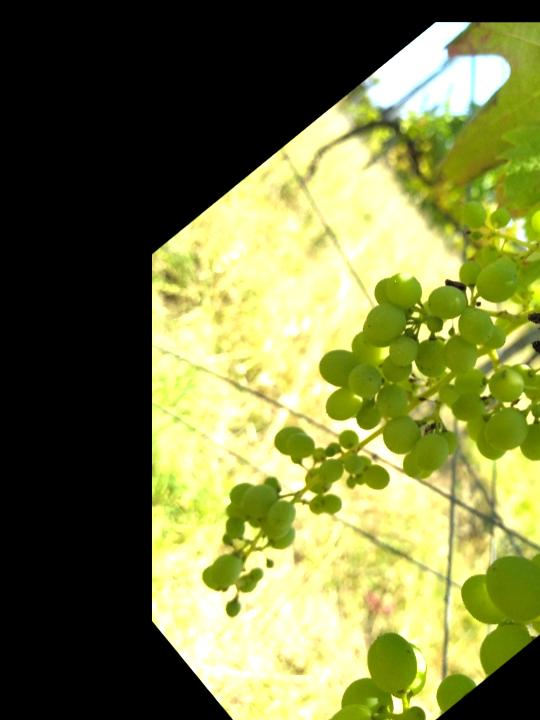grape: (114, 146, 540, 689), (489, 140, 540, 449)
